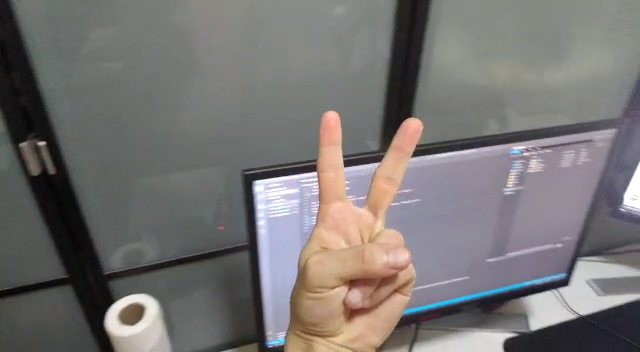Peace: (280, 108, 437, 350)
